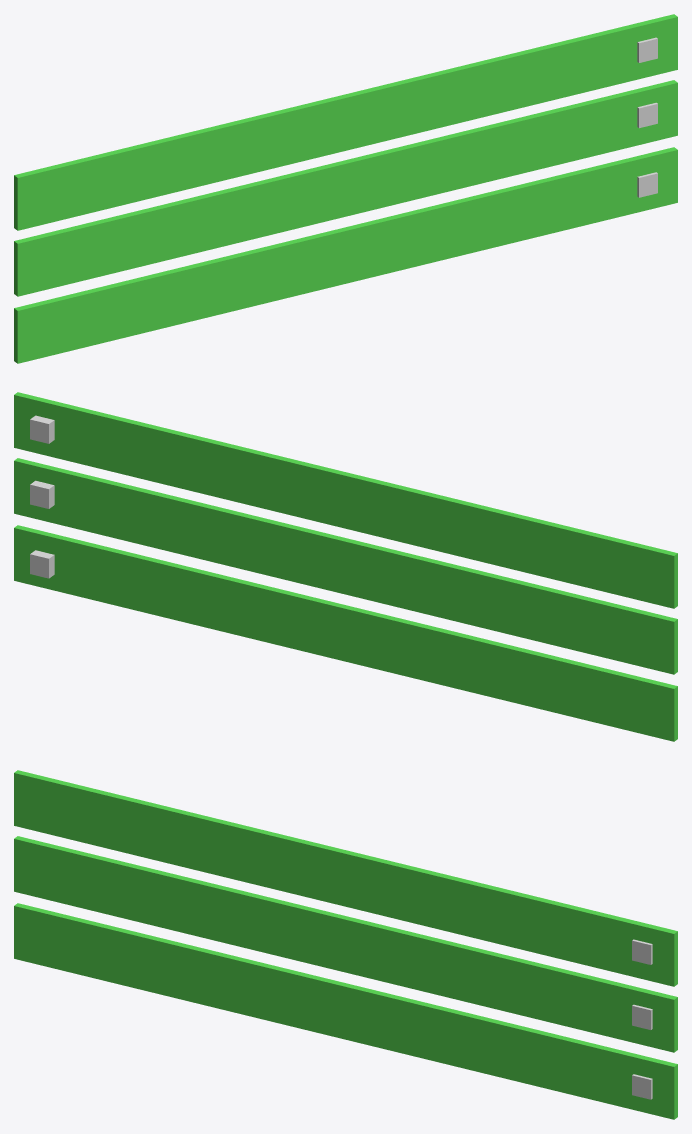
The model's file is map01.dae.
The picture shows the model from 3 angles, top to bottom: view 1: azimuth 30°, elevation 25°; view 2: azimuth 150°, elevation 25°; view 3: azimuth 330°, elevation 25°; orthographic projection.
Parts seen in each view (by area): view 1: Ground.001, Ground, Ground.002; view 2: Ground.002, Ground.001, Ground, poi_spawn_right, poi_spawn_left, poi_spawn_mid; view 3: Ground, Ground.002, Ground.001.
Boxes of the visible parts, left/top/right/bottom form: Ground.001: left=14, top=80, right=677, bottom=296; Ground: left=14, top=147, right=677, bottom=363; Ground.002: left=14, top=14, right=677, bottom=230; Ground.002: left=14, top=392, right=677, bottom=608; Ground.001: left=14, top=458, right=677, bottom=674; Ground: left=14, top=525, right=677, bottom=741; poi_spawn_right: left=30, top=415, right=54, bottom=443; poi_spawn_left: left=30, top=550, right=54, bottom=578; poi_spawn_mid: left=30, top=480, right=54, bottom=508; Ground: left=14, top=903, right=677, bottom=1119; Ground.002: left=14, top=770, right=677, bottom=986; Ground.001: left=14, top=836, right=677, bottom=1052.
Bounding box in the file's own units: 69.59 × 2 × 18.72.
